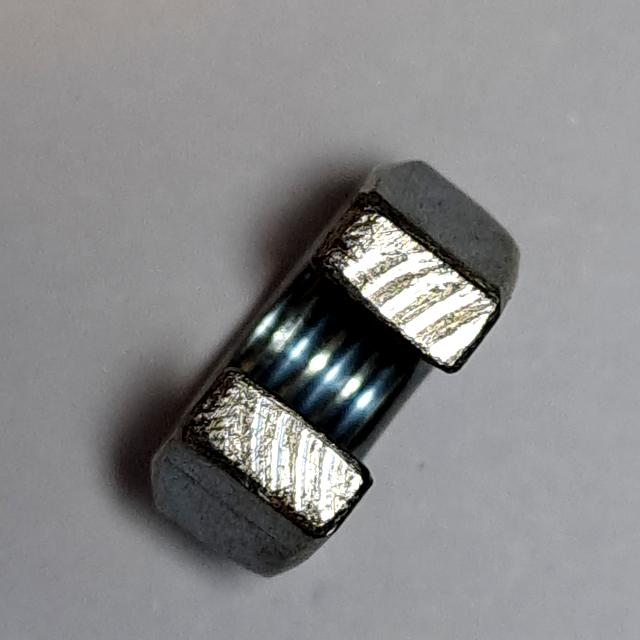Side-Fracture: (139, 143, 553, 590)
